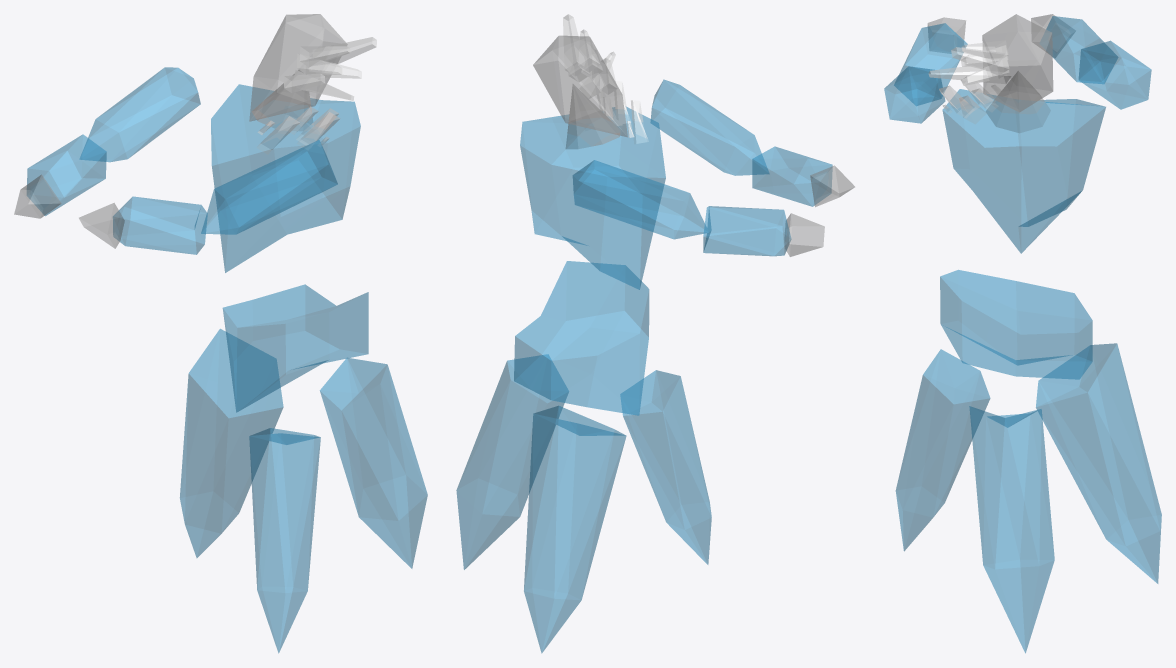
Rendered from ghostDistanceAttack2.obj.
The picture shows the model from 3 angles, left to right: view 1: azimuth 30°, elevation 25°; view 2: azimuth 150°, elevation 25°; view 3: azimuth 270°, elevation 25°; orthographic projection. The views are drawn at different scales.
Parts seen in each view (by area): view 1: Cube.001_Cube.007, Icosphere.020, Icosphere.019, Cube_Cube.007, Icosphere.018, Icosphere.005_Icosphere.007, Icosphere.003_Icosphere.007, Icosphere.007_Icosphere.006, Icosphere.006_Icosphere.006, Icosphere.008_Icosphere.006, Cone_Cone.007, Cube.003_Cube.007 (+6 smaller); view 2: Cube.001_Cube.007, Cube_Cube.007, Icosphere.020, Icosphere.019, Icosphere.018, Icosphere.007_Icosphere.006, Icosphere.003_Icosphere.007, Icosphere.005_Icosphere.007, Icosphere.008_Icosphere.006, Icosphere.006_Icosphere.006, Cone_Cone.007, Cube.003_Cube.007 (+3 smaller); view 3: Cube.001_Cube.007, Icosphere.020, Icosphere.019, Cube_Cube.007, Icosphere.018, Icosphere.003_Icosphere.007, Icosphere.006_Icosphere.006, Icosphere.007_Icosphere.006, Icosphere.008_Icosphere.006, Icosphere.005_Icosphere.007, Cone_Cone.007, Cube.002_Cube.007 (+7 smaller).
Part boxes in pixels (box(x1,y1,x2,y2)): Cube.001_Cube.007: box(211, 84, 360, 272); Icosphere.020: box(180, 329, 283, 557); Icosphere.019: box(320, 358, 427, 568); Cube_Cube.007: box(222, 284, 368, 412); Icosphere.018: box(249, 428, 320, 653); Icosphere.005_Icosphere.007: box(201, 140, 337, 234); Icosphere.003_Icosphere.007: box(249, 14, 347, 121); Icosphere.007_Icosphere.006: box(80, 67, 200, 162); Icosphere.006_Icosphere.006: box(113, 196, 207, 254); Icosphere.008_Icosphere.006: box(27, 134, 106, 215); Cone_Cone.007: box(252, 70, 312, 130); Cube.003_Cube.007: box(14, 174, 61, 218); Cube.001_Cube.007: box(520, 107, 665, 289); Cube_Cube.007: box(514, 261, 649, 415); Icosphere.020: box(524, 405, 626, 653); Icosphere.019: box(456, 354, 568, 569); Icosphere.018: box(620, 370, 711, 564); Icosphere.007_Icosphere.006: box(572, 160, 708, 239); Icosphere.003_Icosphere.007: box(533, 35, 627, 137); Icosphere.005_Icosphere.007: box(651, 79, 768, 175); Icosphere.008_Icosphere.006: box(703, 206, 791, 256); Icosphere.006_Icosphere.006: box(752, 146, 832, 206); Cone_Cone.007: box(566, 84, 619, 148); Cube.003_Cube.007: box(784, 213, 824, 256); Cube.001_Cube.007: box(942, 89, 1105, 253); Icosphere.020: box(1036, 343, 1161, 583); Icosphere.019: box(969, 406, 1054, 653); Cube_Cube.007: box(940, 270, 1092, 379); Icosphere.018: box(895, 349, 990, 551); Icosphere.003_Icosphere.007: box(982, 14, 1053, 112); Icosphere.006_Icosphere.006: box(894, 23, 967, 105); Icosphere.007_Icosphere.006: box(1078, 40, 1151, 109); Icosphere.008_Icosphere.006: box(1040, 16, 1117, 83); Icosphere.005_Icosphere.007: box(884, 66, 945, 123); Cone_Cone.007: box(986, 71, 1050, 132); Cube.002_Cube.007: box(927, 17, 965, 53).
Bounding box in the file's own units: 33 × 47.42 × 20.64.
